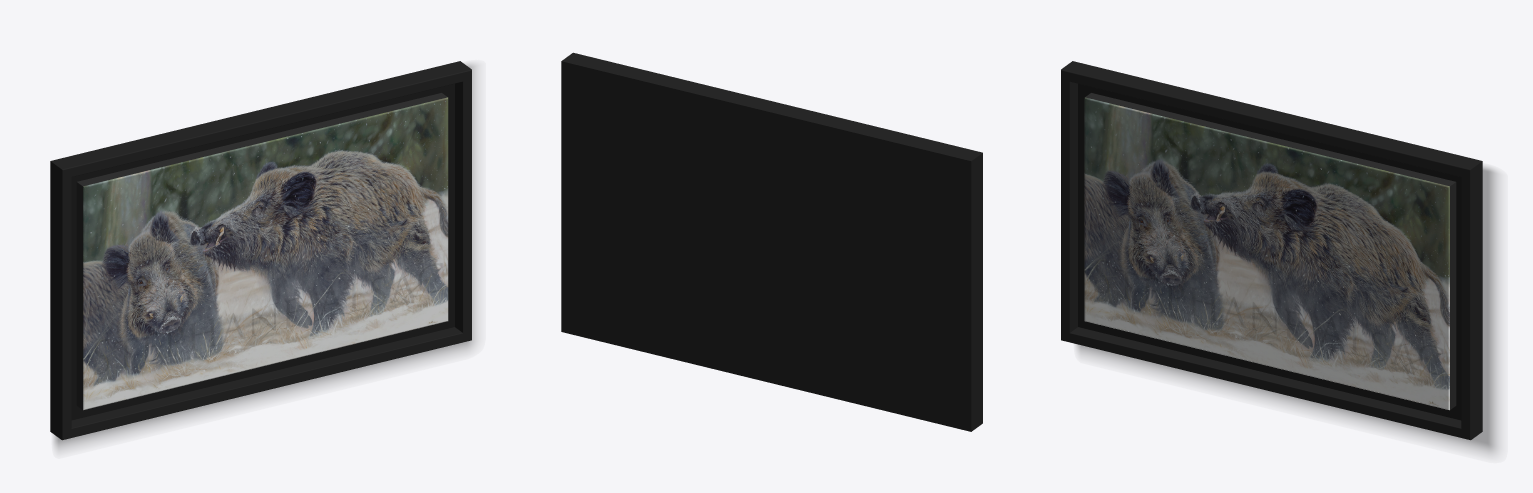
The model's file is tableau-peinture-sangliers-neige-classique-9b255c3f.glb.
3 views of the same model, side by side, from view 1: azimuth 30°, elevation 25°; view 2: azimuth 150°, elevation 25°; view 3: azimuth 330°, elevation 25° (orthographic).
Parts seen in each view (by area): view 1: Painting; view 2: Painting; view 3: Painting.
Boxes of the visible parts, x1,y1,x2,y2 form: Painting: [50, 61, 475, 449]; Painting: [561, 52, 982, 431]; Painting: [1061, 61, 1497, 453].
Size of the model in its own units: 0.926 by 0.636 by 0.04.
5 materials, 3 textured.
